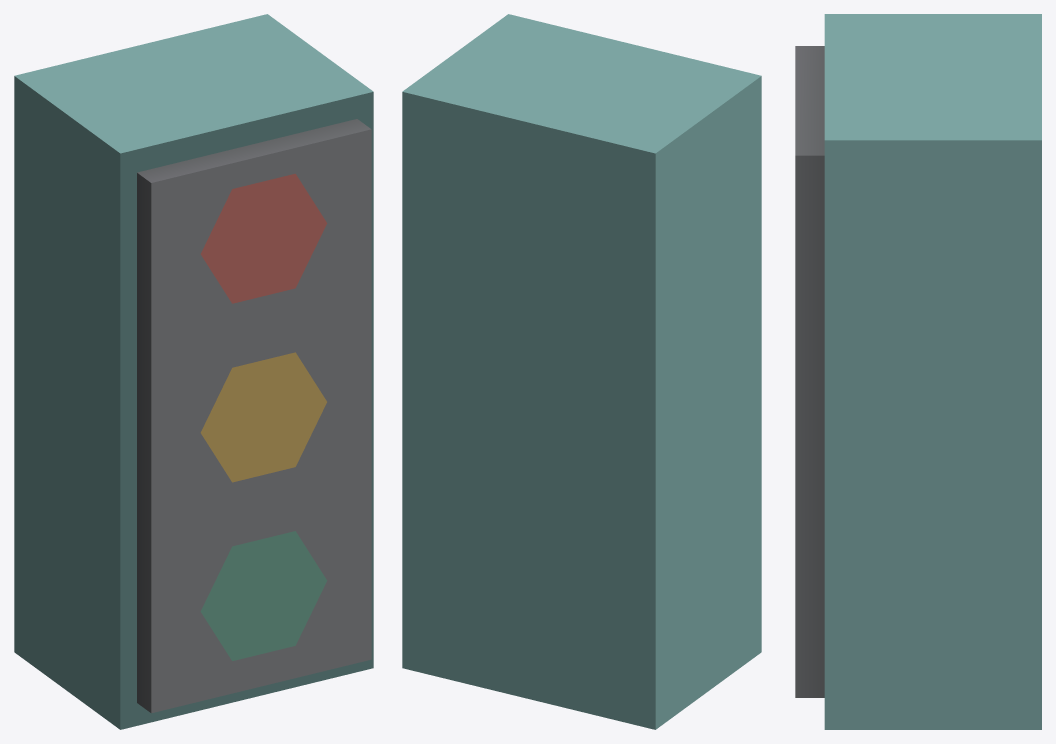
File: light.lod2.glb
3 views of the same model, side by side, from view 1: azimuth 30°, elevation 25°; view 2: azimuth 150°, elevation 25°; view 3: azimuth 270°, elevation 25° (orthographic). The views are drawn at different scales.
Bounding box in the file's own units: 0.46 × 1 × 0.3869.
